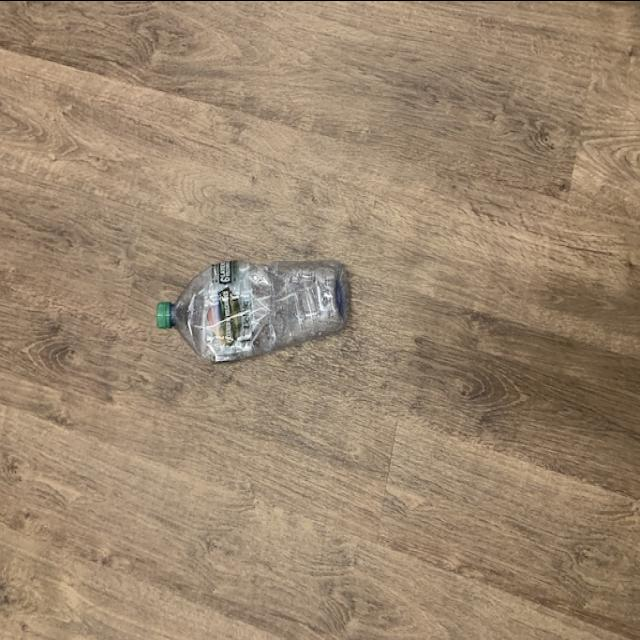PET: (156, 254, 350, 362)
